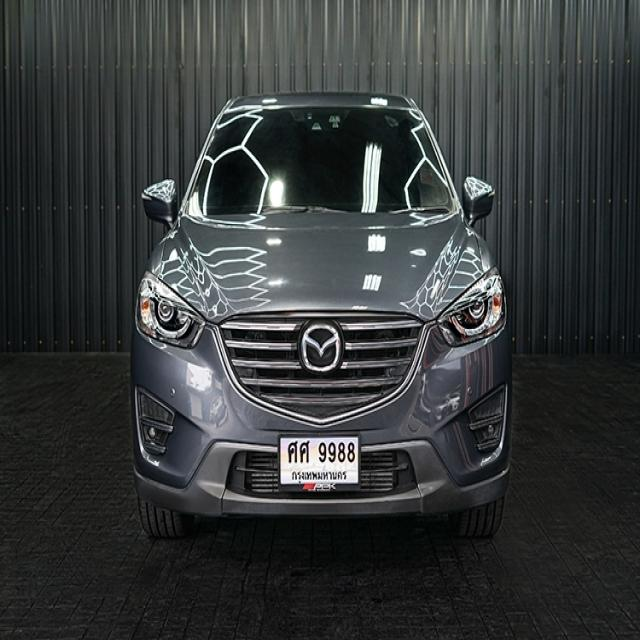license_plate: (277, 430, 361, 496)
